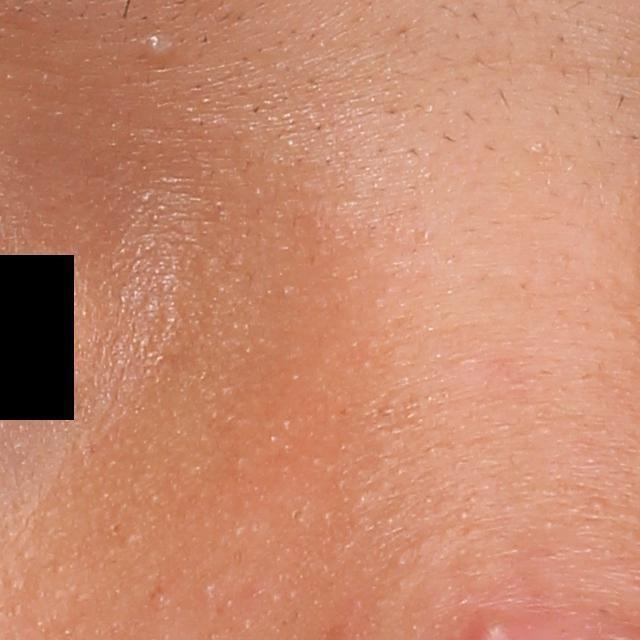other: (130, 22, 193, 71)
